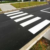zebra: (4, 10, 50, 34)
